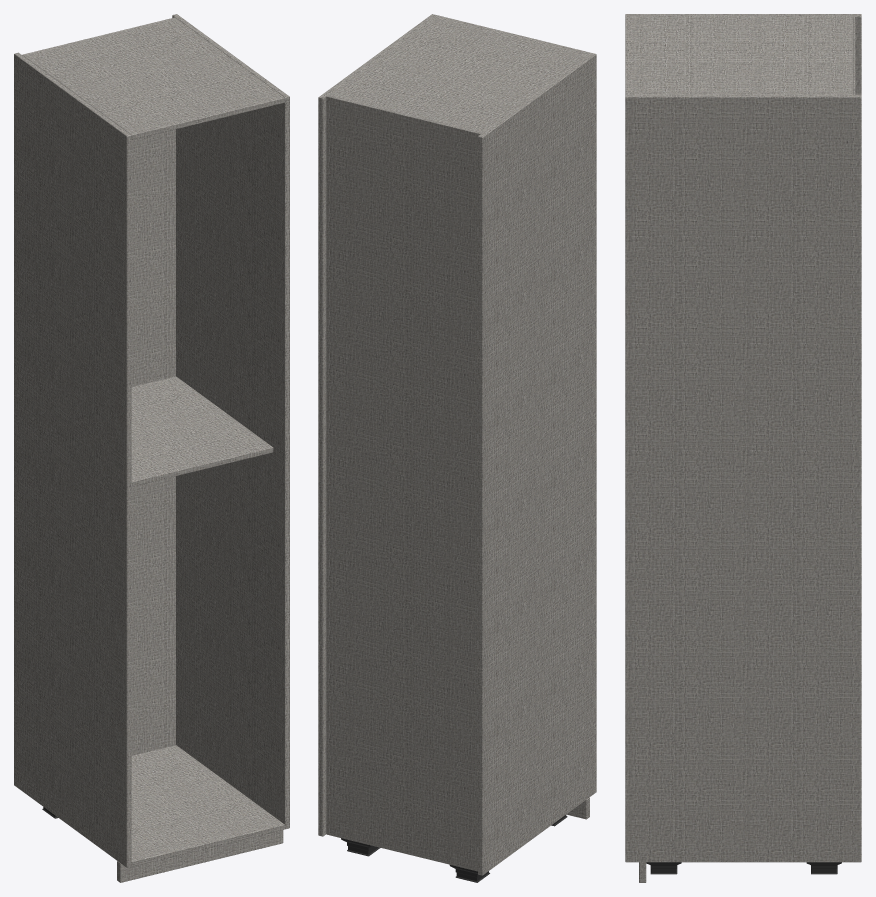
The model's file is cbib12115.gltf.
The picture shows the model from 3 angles, left to right: view 1: azimuth 30°, elevation 25°; view 2: azimuth 150°, elevation 25°; view 3: azimuth 270°, elevation 25°; orthographic projection. The views are drawn at different scales.
Visible parts, largest first — view 1: CBIB12115; view 2: CBIB12115; view 3: CBIB12115.
Boxes of the visible parts, x1,y1,x2,y2 form: CBIB12115: (14, 14, 289, 882); CBIB12115: (318, 14, 596, 882); CBIB12115: (625, 14, 861, 882).
Bounding box in the file's own units: 0.5 × 2.2 × 0.6.
3 materials, 2 textured.
